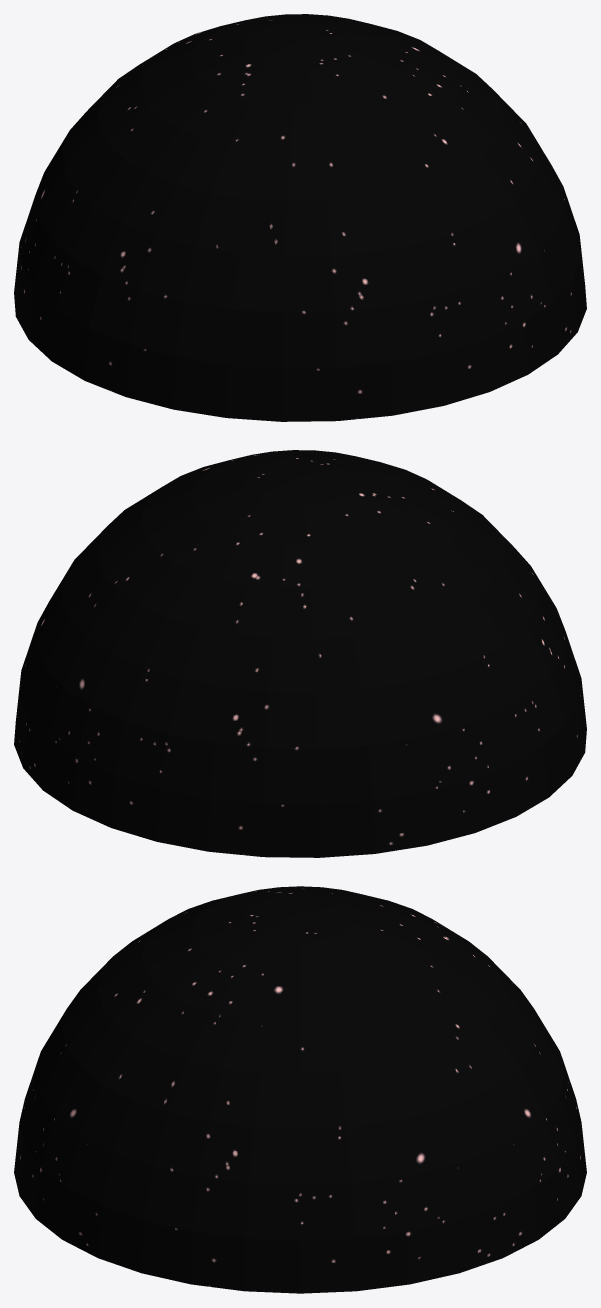
The model's file is skydome.obj.
3 views of the same model, one above another, from view 1: azimuth 30°, elevation 25°; view 2: azimuth 150°, elevation 25°; view 3: azimuth 270°, elevation 25° (orthographic).
Parts seen in each view (by area): view 1: Sphere; view 2: Sphere; view 3: Sphere.
Part boxes in pixels (x1,y1,x2,y2): Sphere: [14, 14, 586, 421]; Sphere: [14, 450, 586, 857]; Sphere: [14, 886, 586, 1293].
Size of the model in its own units: 2 by 1 by 2.
